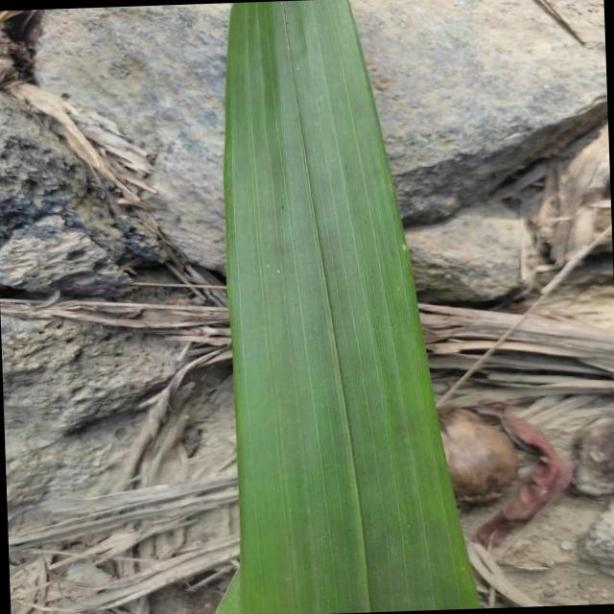Healthy: (223, 0, 482, 614)
